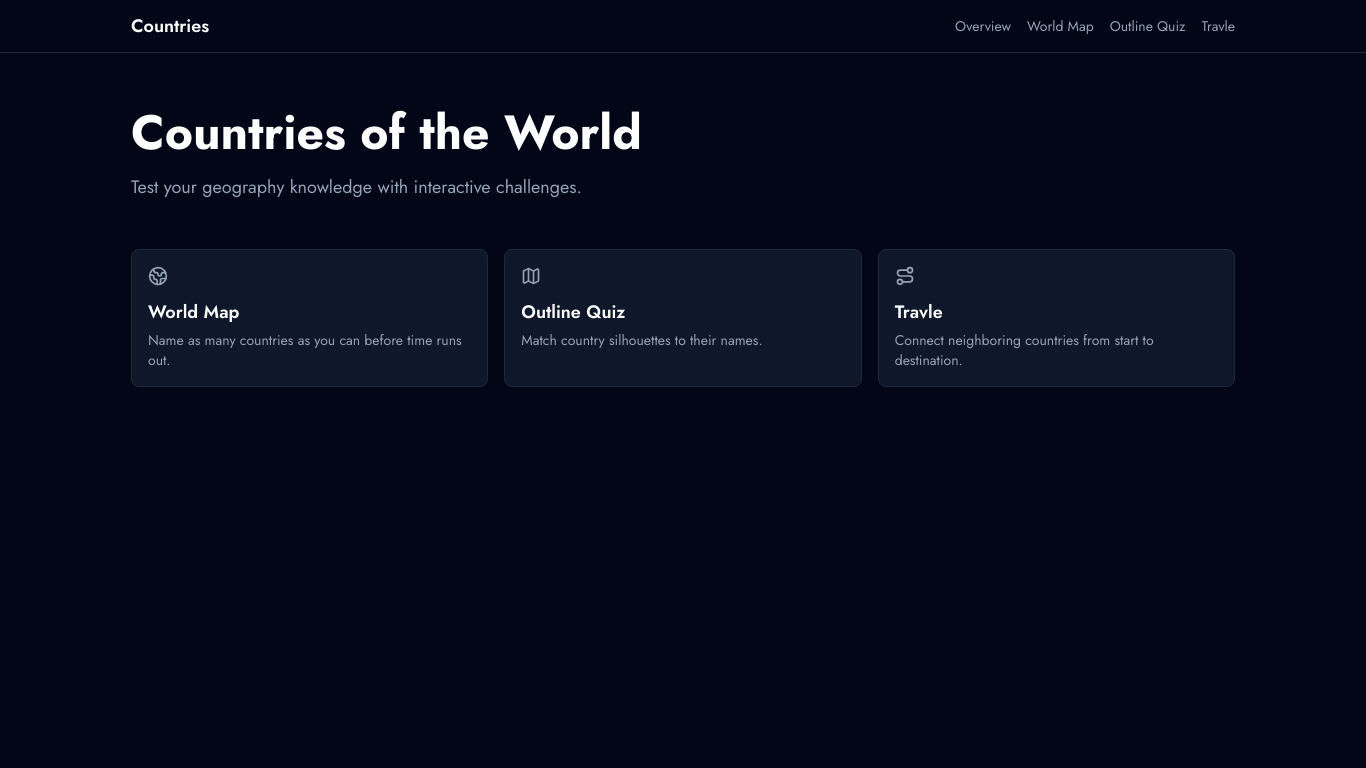
Test: OutlineGame › shows a hint when the hint button is clicked
Click the button "Outline Quiz Match country silhouettes to their names." at (573, 312), box [504,249,862,387]
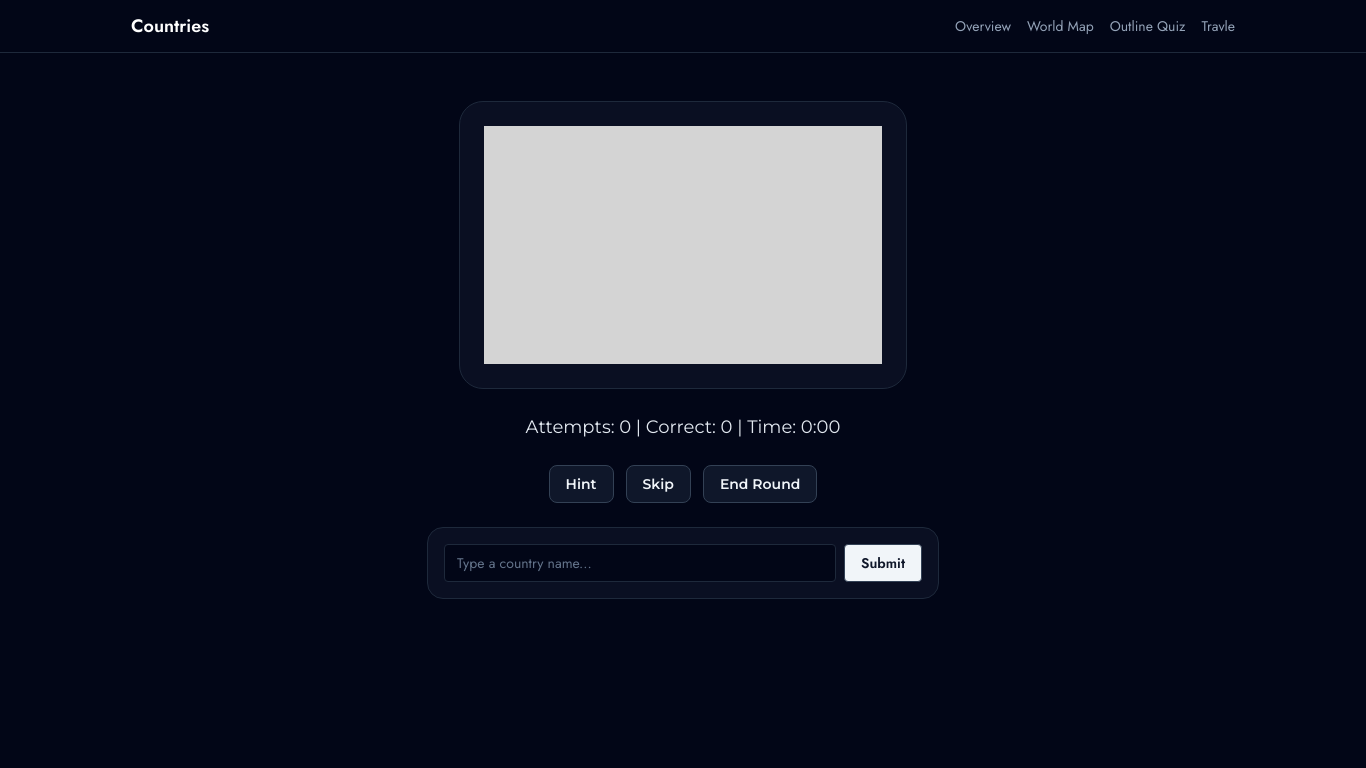
Click the button "Hint" at (581, 484), box [549,465,614,503]
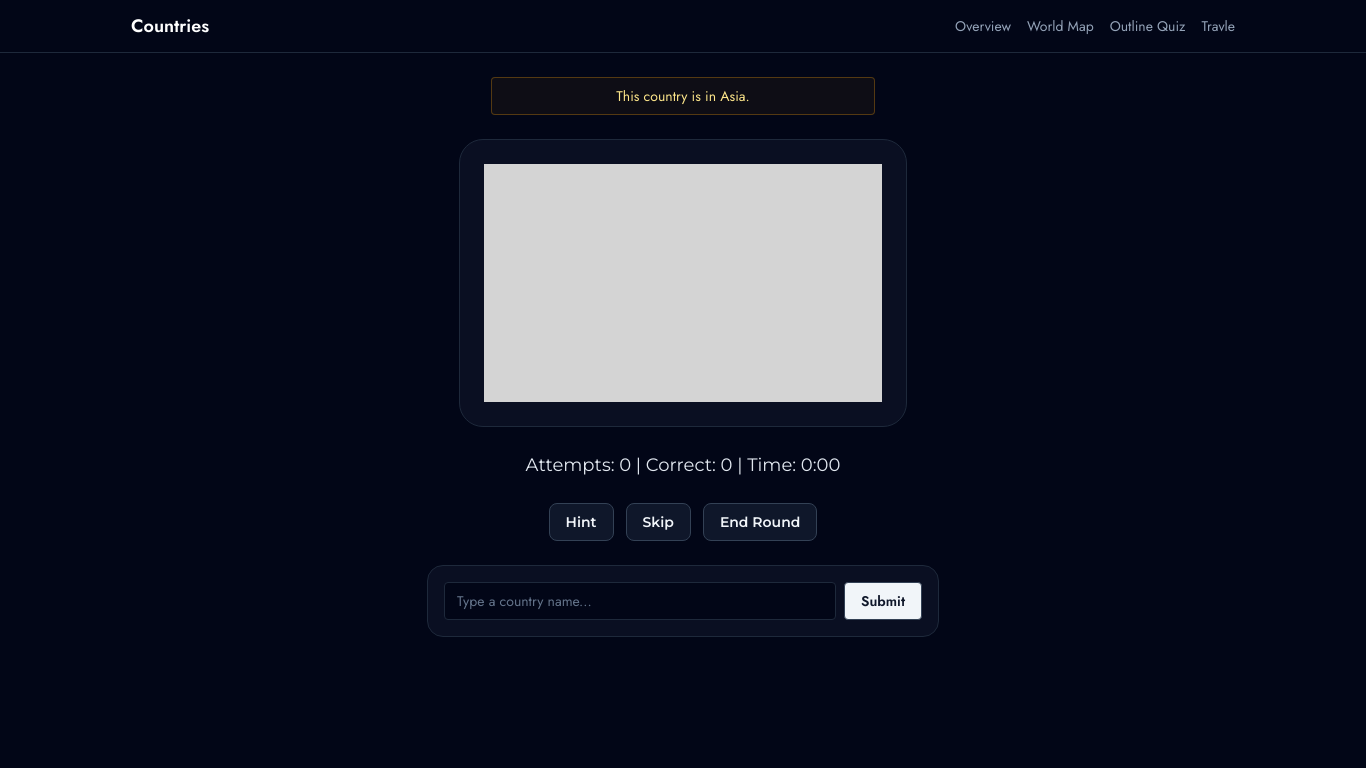
Check: the text "This country is in Asia." is shown, box [491,77,875,115]
